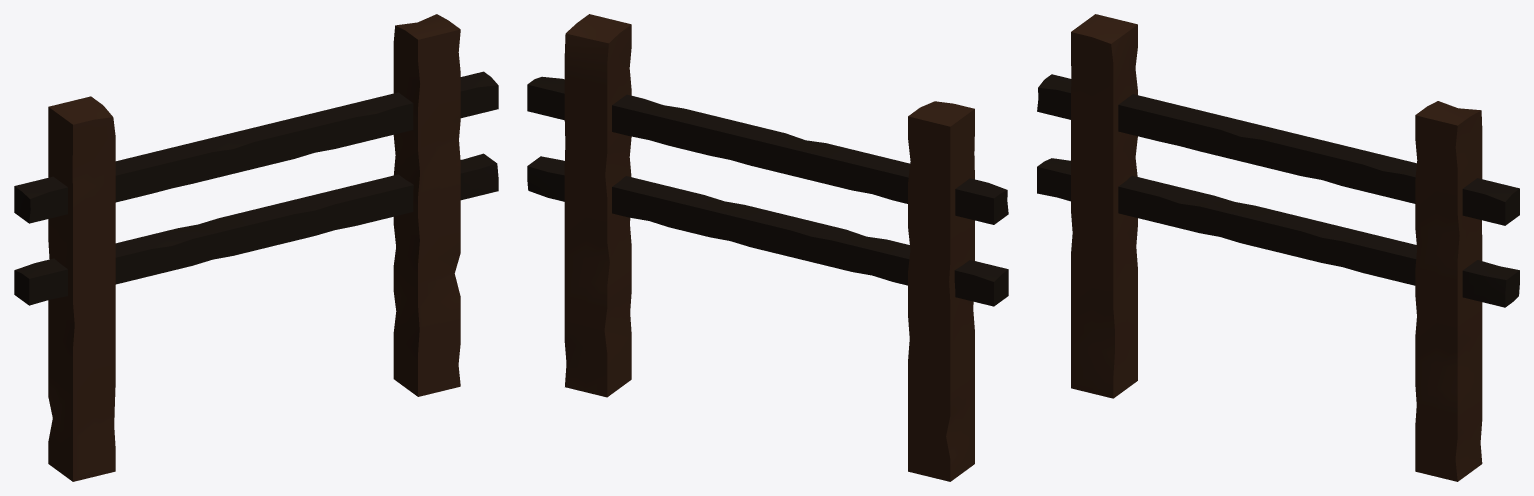
File: Fence-1.FBX
The picture shows the model from 3 angles, left to right: view 1: azimuth 30°, elevation 25°; view 2: azimuth 150°, elevation 25°; view 3: azimuth 330°, elevation 25°; orthographic projection.
Parts seen in each view (by area): view 1: Box002, Box001, Box003, Box004; view 2: Box001, Box002, Box004, Box003; view 3: Box002, Box001, Box003, Box004.
Boxes of the visible parts, x1=… form: Box002: x1=48, y1=96, x2=115, y2=481; Box001: x1=393, y1=14, x2=460, y2=396; Box003: x1=14, y1=71, x2=498, y2=223; Box004: x1=14, y1=153, x2=498, y2=305; Box001: x1=564, y1=14, x2=631, y2=397; Box002: x1=908, y1=101, x2=974, y2=481; Box004: x1=527, y1=156, x2=1008, y2=306; Box003: x1=527, y1=76, x2=1008, y2=224; Box002: x1=1071, y1=14, x2=1137, y2=398; Box001: x1=1415, y1=101, x2=1482, y2=481; Box003: x1=1037, y1=74, x2=1519, y2=225; Box004: x1=1037, y1=158, x2=1519, y2=307.
Size of the model in its own units: 55 by 40.08 by 5.
